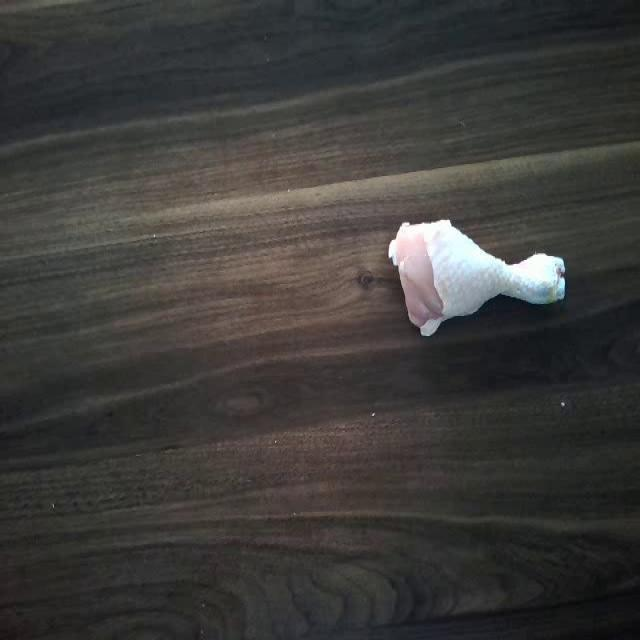leg: (388, 222, 568, 340)
